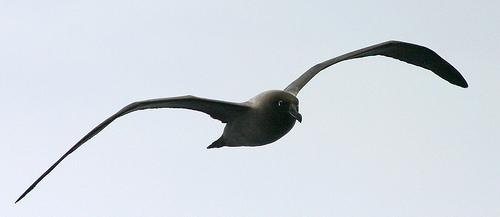bird: (12, 39, 469, 205)
